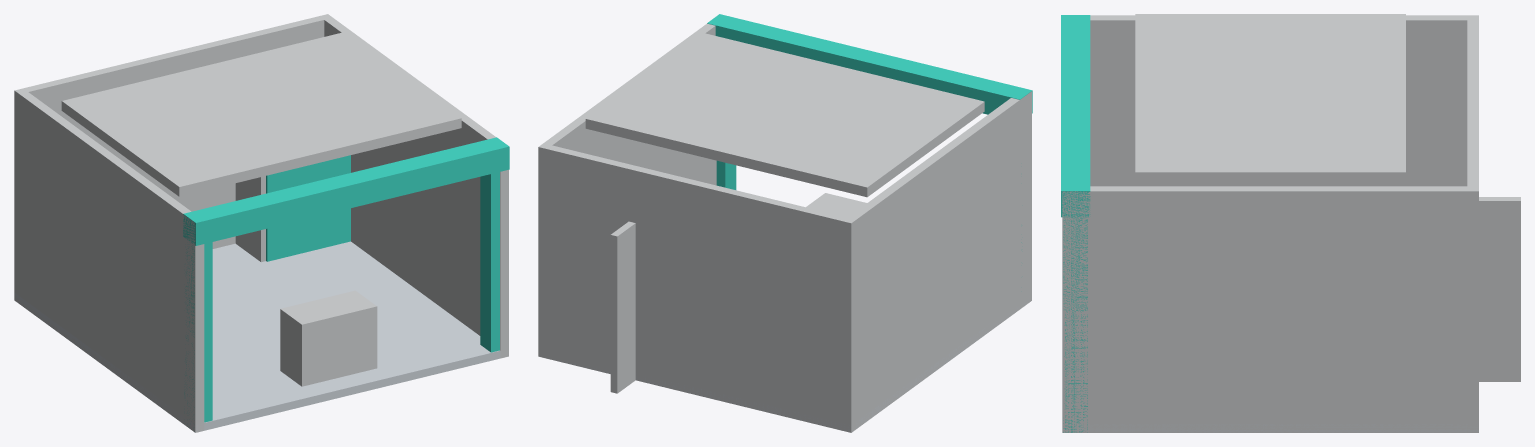
3 renders of one model, left to right at view 1: azimuth 30°, elevation 25°; view 2: azimuth 150°, elevation 25°; view 3: azimuth 270°, elevation 25°, orthographic. The views are drawn at different scales.
Parts seen in each view (by area): view 1: Exhibition Booth Concept; view 2: Exhibition Booth Concept; view 3: Exhibition Booth Concept.
Part boxes in pixels (left/top/right/bottom): Exhibition Booth Concept: left=14, top=14, right=509, bottom=432; Exhibition Booth Concept: left=538, top=14, right=1032, bottom=432; Exhibition Booth Concept: left=1061, top=14, right=1520, bottom=432.
Size of the model in its own units: 5 by 3.34 by 5.52.
